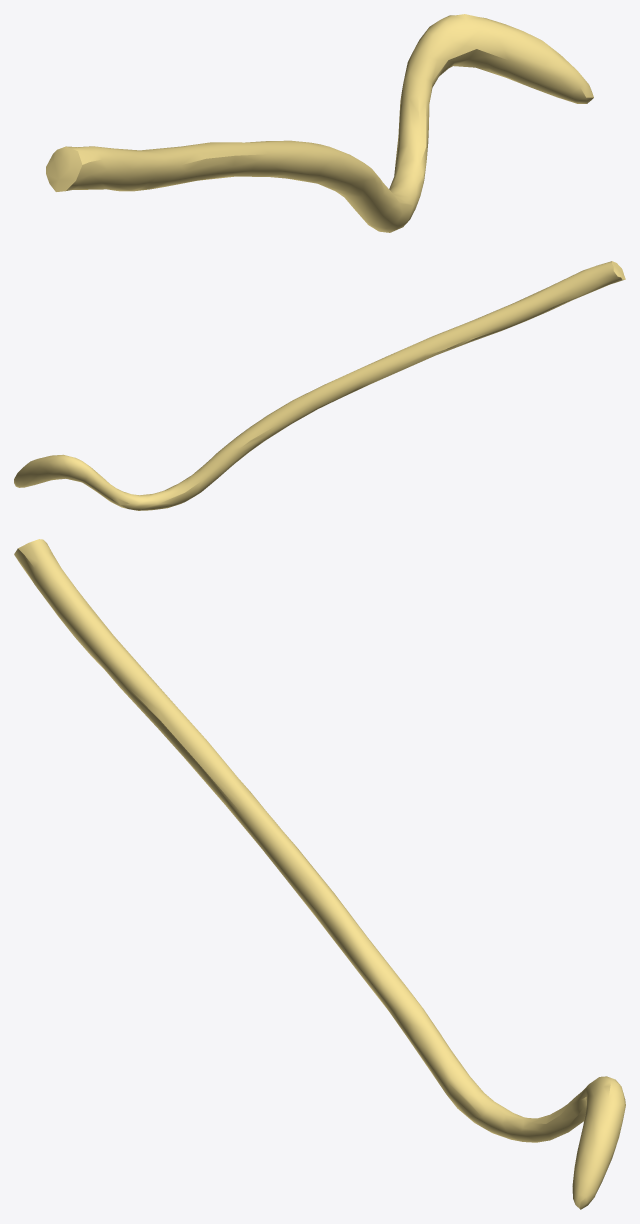
File: fma53411_mm2608m.glb
3 renders of one model, top to bottom at view 1: azimuth 30°, elevation 25°; view 2: azimuth 150°, elevation 25°; view 3: azimuth 270°, elevation 25°, orthographic. The views are drawn at different scales.
Parts seen in each view (by area): view 1: FMA53411_MM2608M; view 2: FMA53411_MM2608M; view 3: FMA53411_MM2608M.
Boxes of the visible parts, left/top/right/bottom form: FMA53411_MM2608M: left=46, top=14, right=593, bottom=232; FMA53411_MM2608M: left=14, top=261, right=625, bottom=510; FMA53411_MM2608M: left=14, top=539, right=625, bottom=1209.
Bounding box in the file's own units: 0.0225 × 0.0106 × 0.0167.
